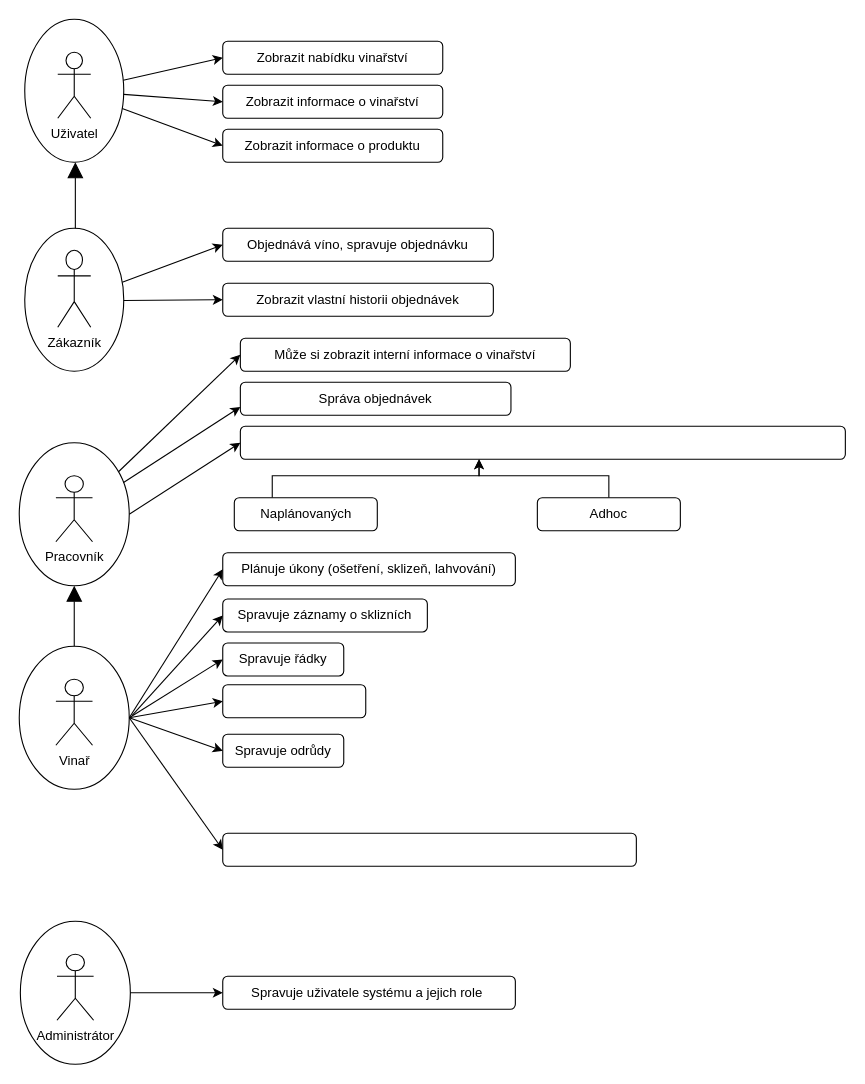
The diagram is 865 pixels wide and 1084 high, and some of its shapes have lost their labels. Here are the shapes that lost their labels. From the top down, the centre of each, then its label:
At (542,442): "Zaznamenává vykonané úkony (ošetření, sklizeň, lahvování)".
At (294,701): "Spravuje vinohrady".
At (429,849): "Spravuje víno (likviduje, zařazuje do prodeje, informace o víně)".
